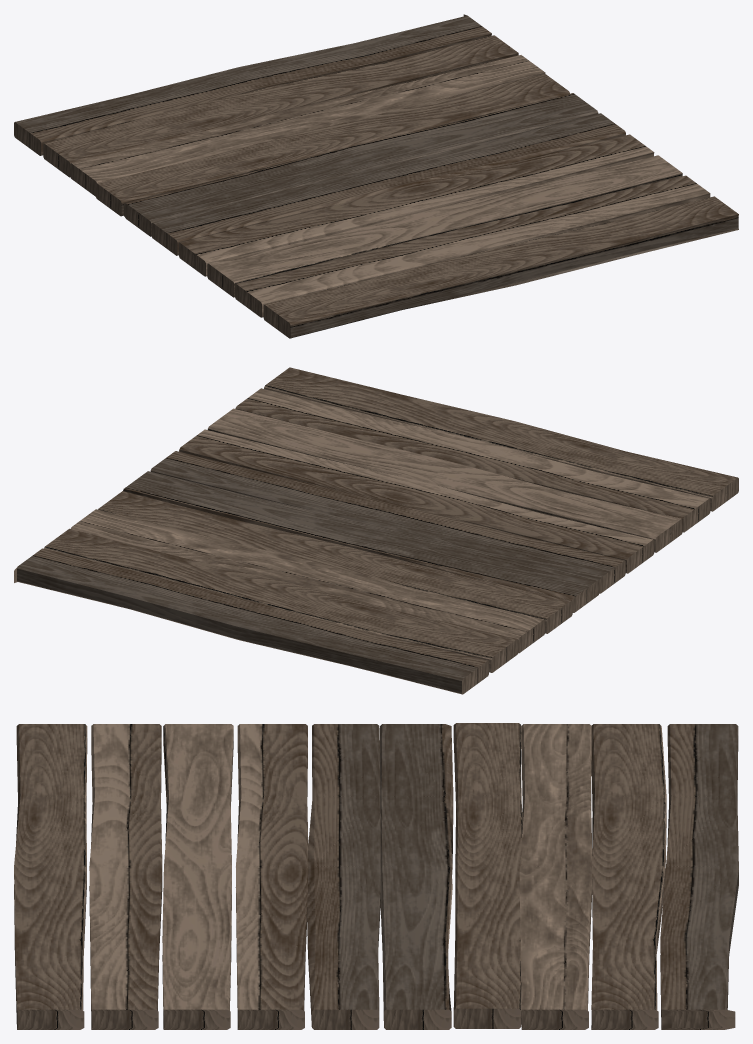
File: SM_FloorPlank.fbx
3 renders of one model, top to bottom at view 1: azimuth 30°, elevation 25°; view 2: azimuth 150°, elevation 25°; view 3: azimuth 270°, elevation 25°, orthographic. The views are drawn at different scales.
Visible parts, largest first — view 1: SM_Floor_PlankShape; view 2: SM_Floor_PlankShape; view 3: SM_Floor_PlankShape.
Part boxes in pixels (bbox=[...]): SM_Floor_PlankShape: bbox=[14, 14, 738, 338]; SM_Floor_PlankShape: bbox=[14, 367, 738, 694]; SM_Floor_PlankShape: bbox=[14, 723, 738, 1029].
Size of the model in its own units: 301 by 10 by 322.
